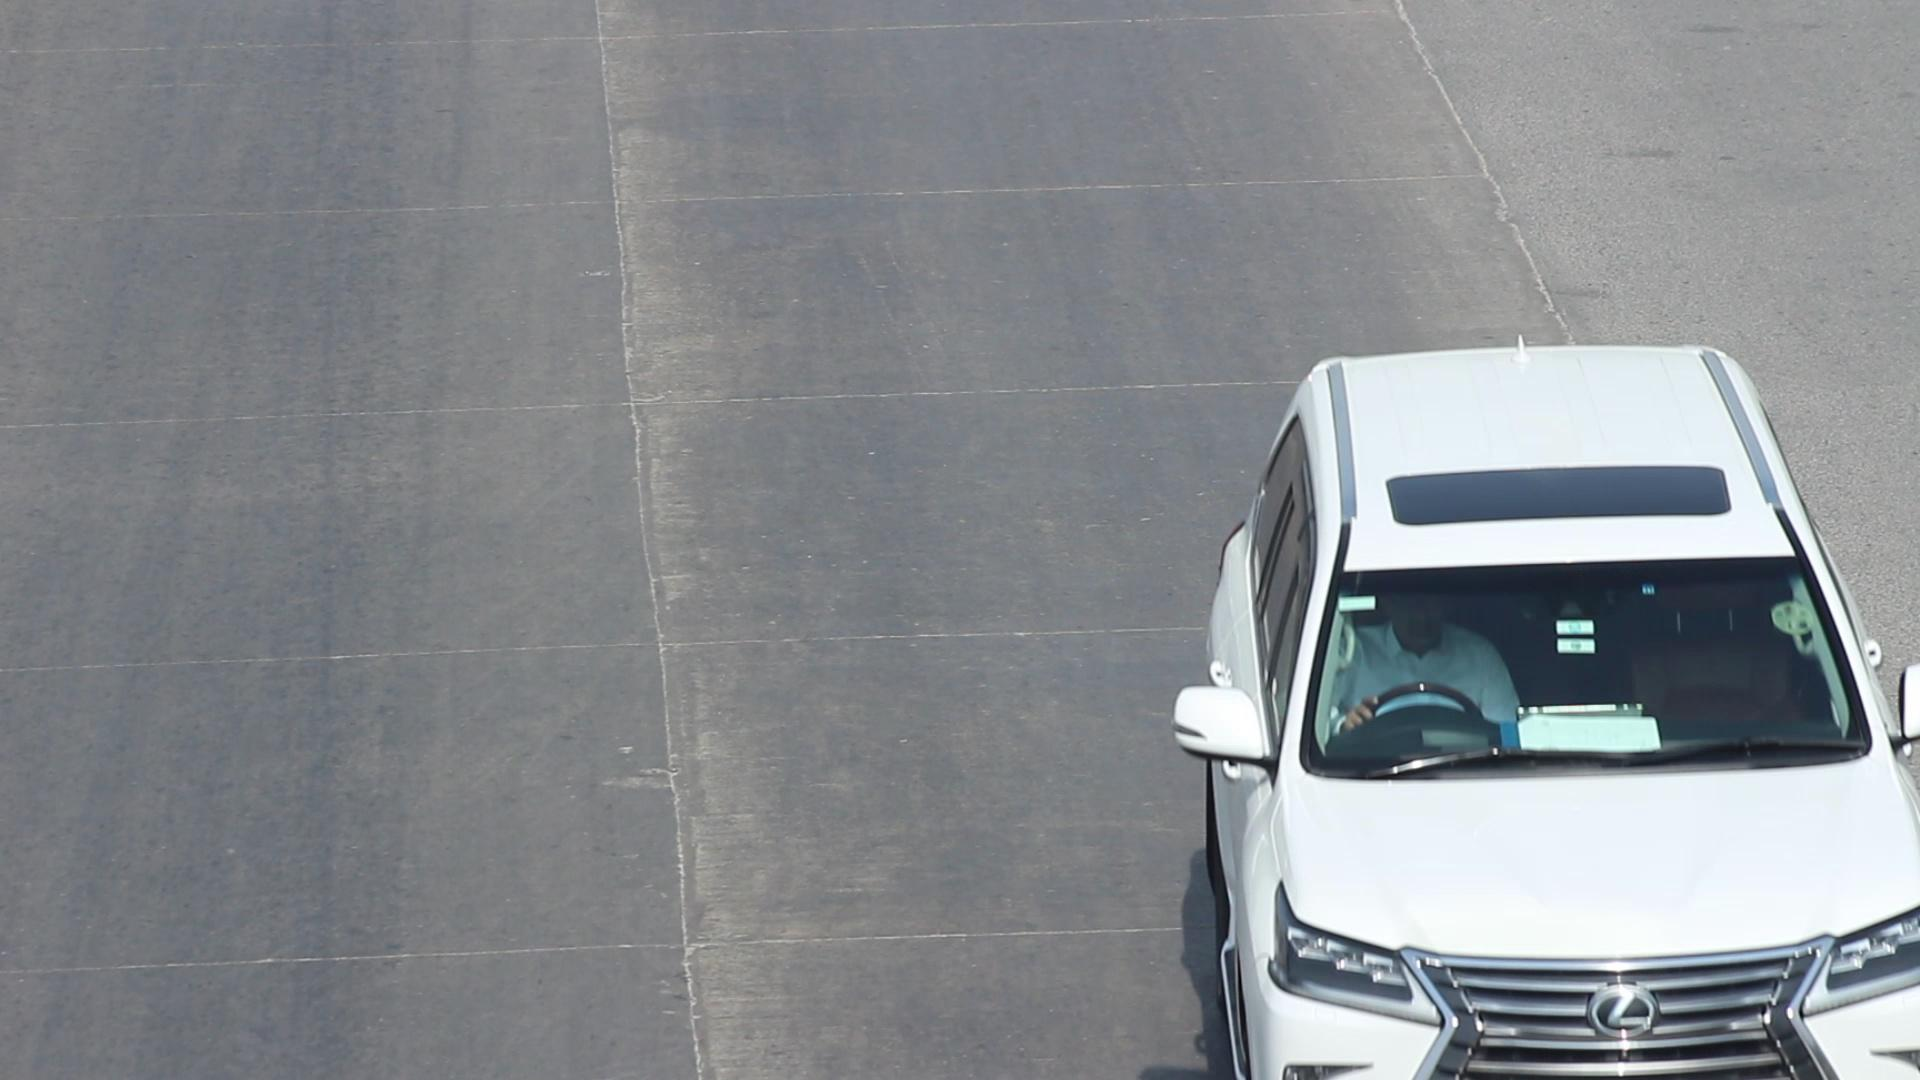windshield: (1287, 541, 1894, 783)
